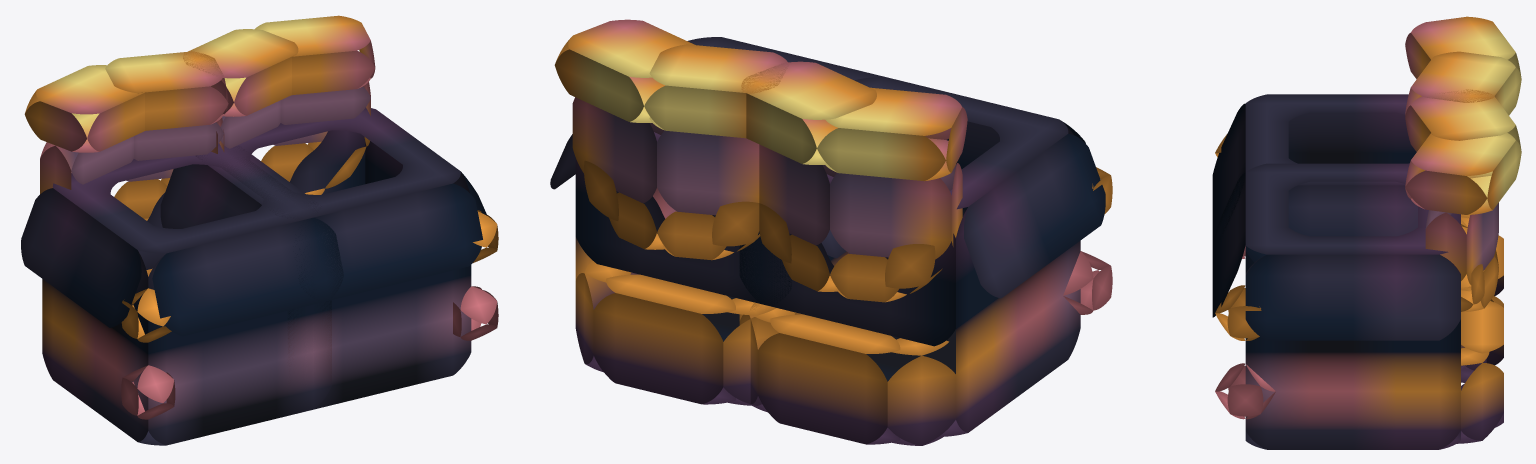
Rendered from DuelistArmorBoot.obj.
3 views of the same model, side by side, from view 1: azimuth 30°, elevation 25°; view 2: azimuth 150°, elevation 25°; view 3: azimuth 270°, elevation 25° (orthographic). The views are drawn at different scales.
Parts seen in each view (by area): view 1: Left Leg Layer, Right Leg Layer, cube; view 2: cube, Left Leg Layer, Right Leg Layer; view 3: Right Leg Layer, cube, Left Leg Layer.
Boxes of the visible parts, x1,y1,x2,y2 form: Left Leg Layer: (21, 143, 343, 445); Right Leg Layer: (160, 107, 498, 409); cube: (24, 15, 375, 220); cube: (554, 19, 967, 302); Left Leg Layer: (723, 77, 1112, 445); Right Leg Layer: (550, 37, 884, 412); Right Leg Layer: (1212, 163, 1503, 449); cube: (1405, 16, 1521, 312); Left Leg Layer: (1212, 94, 1503, 382).
Size of the model in its own units: 0.6457 by 0.438 by 0.5256.
1 material, 1 textured.
